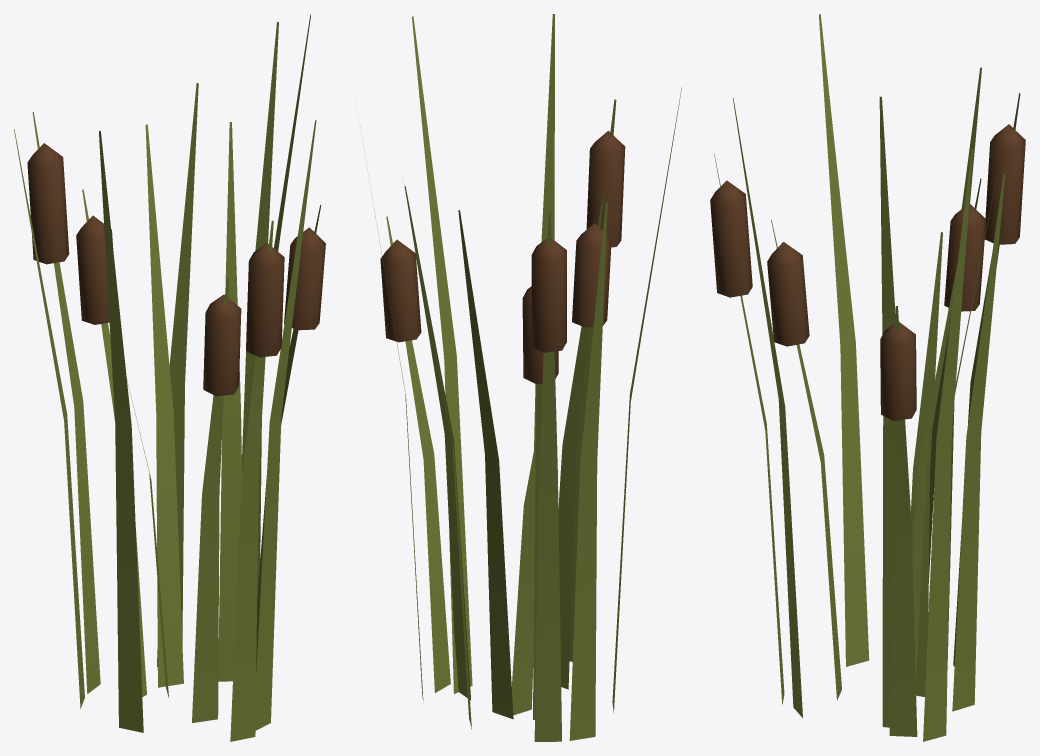
File: nature_reeds.glb
The picture shows the model from 3 angles, left to right: view 1: azimuth 30°, elevation 25°; view 2: azimuth 150°, elevation 25°; view 3: azimuth 270°, elevation 25°; orthographic projection.
Parts seen in each view (by area): view 1: nature_reeds; view 2: nature_reeds; view 3: nature_reeds.
Part boxes in pixels (x1,y1,x2,y2): nature_reeds: (14, 14, 325, 741); nature_reeds: (363, 14, 681, 741); nature_reeds: (710, 14, 1025, 741).
Size of the model in its own units: 0.6689 by 1.57 by 0.6819.
